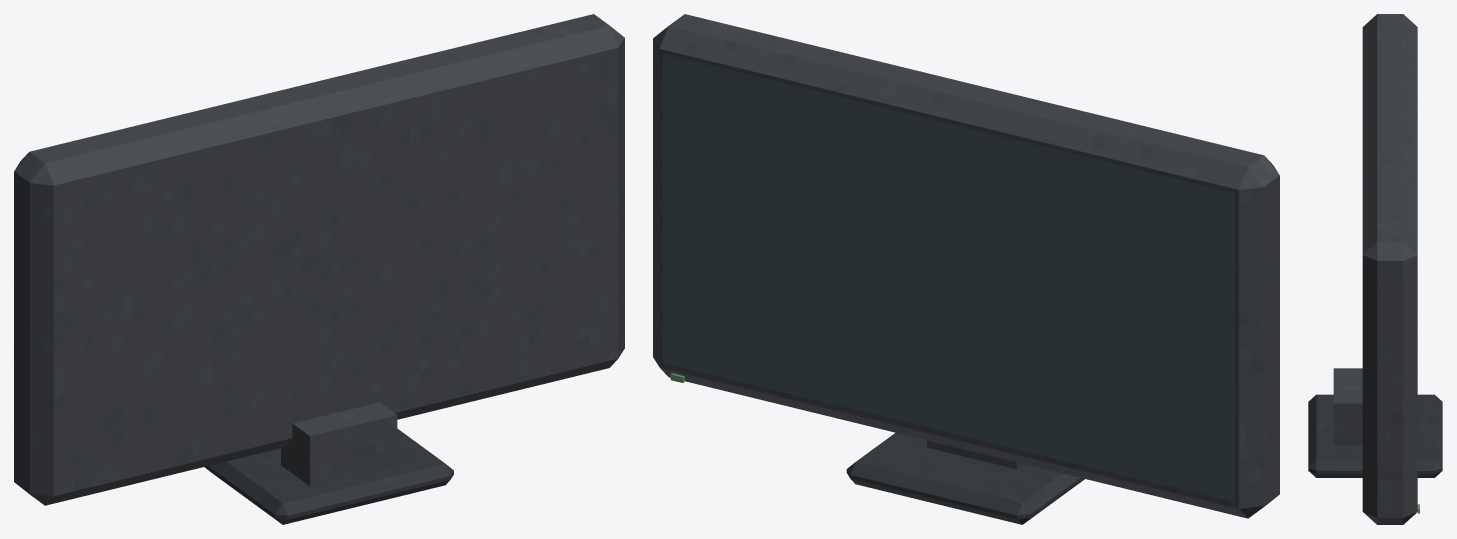
File: television.glb
The picture shows the model from 3 angles, left to right: view 1: azimuth 30°, elevation 25°; view 2: azimuth 150°, elevation 25°; view 3: azimuth 270°, elevation 25°; orthographic projection. The views are drawn at different scales.
Parts seen in each view (by area): view 1: block_LCD screen housing, block_stand foot, block_stand neck; view 2: block_flat dark LCD panel, block_LCD screen housing, block_stand foot, block_stand neck; view 3: block_LCD screen housing, block_stand foot, block_stand neck.
Part boxes in pixels (left/top/right/bottom): block_LCD screen housing: left=14, top=14, right=624, bottom=505; block_stand foot: left=204, top=428, right=453, bottom=524; block_stand neck: left=281, top=402, right=397, bottom=486; block_flat dark LCD panel: left=663, top=54, right=1234, bottom=502; block_LCD screen housing: left=653, top=14, right=1279, bottom=518; block_stand foot: left=846, top=432, right=1084, bottom=524; block_stand neck: left=927, top=440, right=1023, bottom=469; block_LCD screen housing: left=1362, top=14, right=1417, bottom=524; block_stand foot: left=1308, top=394, right=1442, bottom=477; block_stand neck: left=1333, top=368, right=1362, bottom=444.
Size of the model in its own units: 0.4913 by 0.3028 by 0.1163.
1 material, 1 textured.
